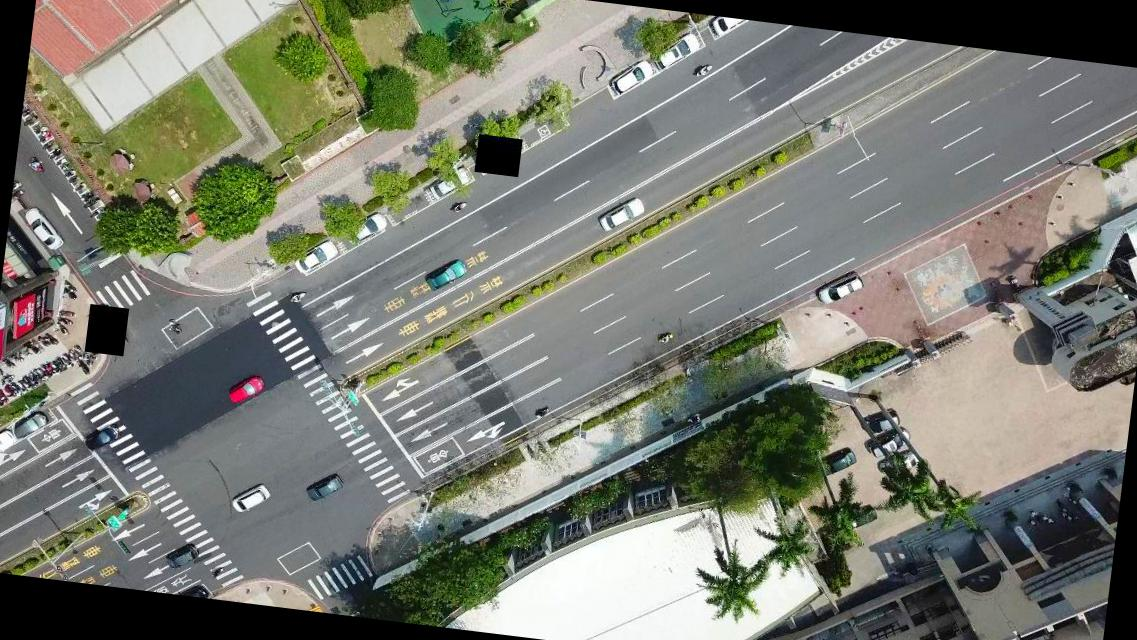vehicle: (596, 192, 644, 235), (813, 267, 863, 307), (653, 29, 700, 70), (20, 208, 66, 248), (294, 235, 338, 275), (424, 254, 467, 294), (610, 58, 652, 98), (230, 479, 271, 516), (430, 167, 469, 204), (11, 407, 50, 443), (866, 424, 907, 458), (815, 446, 856, 480), (348, 212, 386, 248), (80, 421, 120, 454), (305, 470, 343, 504), (877, 448, 920, 478), (162, 542, 199, 574), (228, 373, 264, 405), (705, 15, 750, 40), (846, 504, 876, 532), (0, 427, 14, 463), (172, 584, 208, 597)
